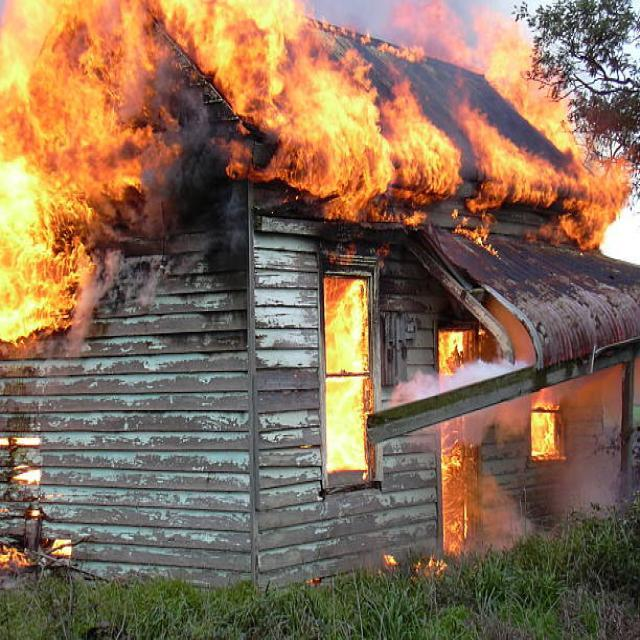Fire: (174, 0, 618, 237), (0, 0, 152, 321), (328, 279, 380, 463)
Smoke: (397, 372, 549, 446)
